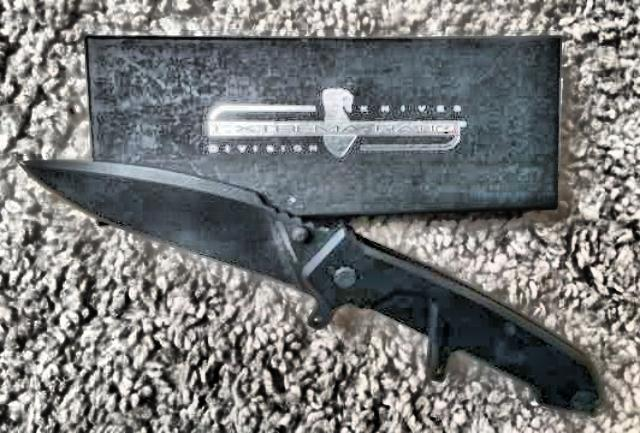knife: (16, 154, 336, 297)
